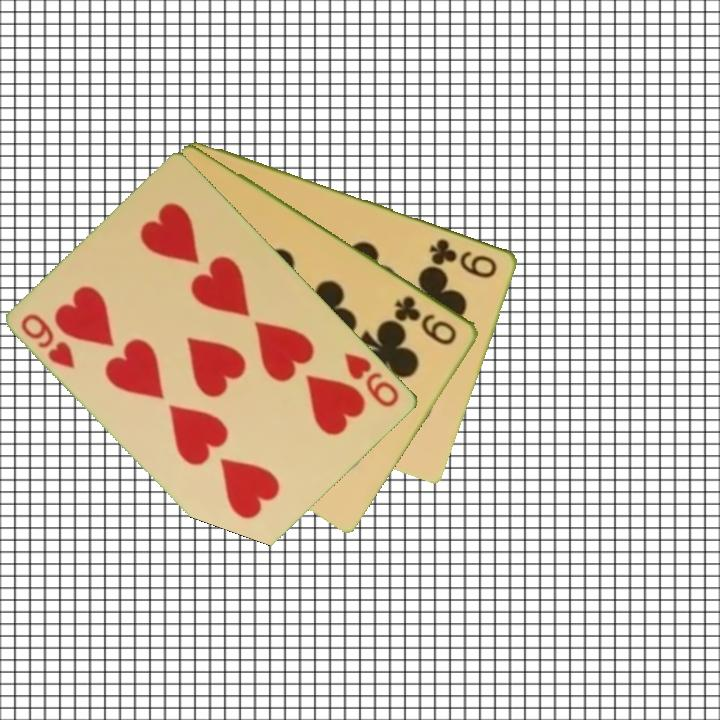9c: (392, 292, 461, 348), (426, 235, 501, 281)
9h: (17, 309, 79, 372), (341, 349, 403, 410)
